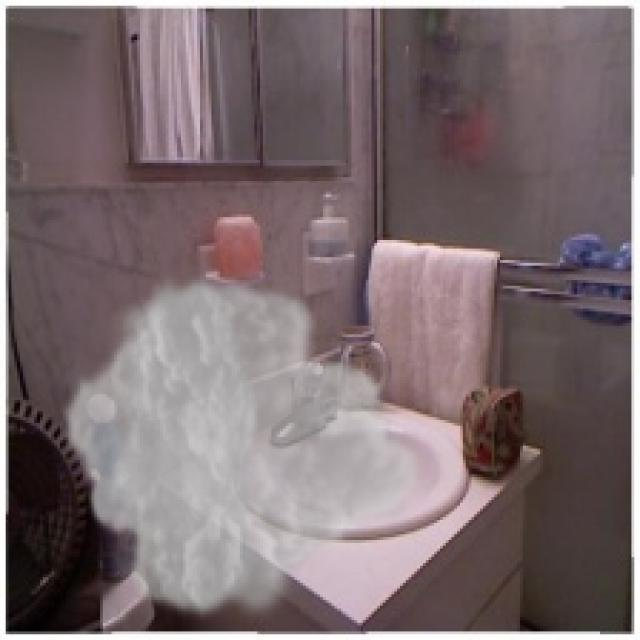Smoke: (60, 268, 429, 626)
